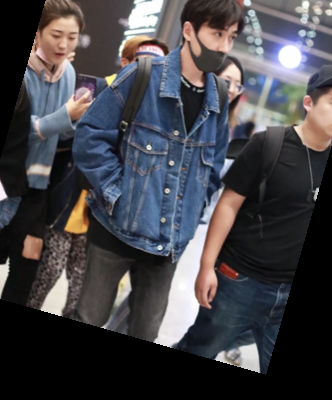mask_weared_incorrect: (176, 2, 253, 87)
